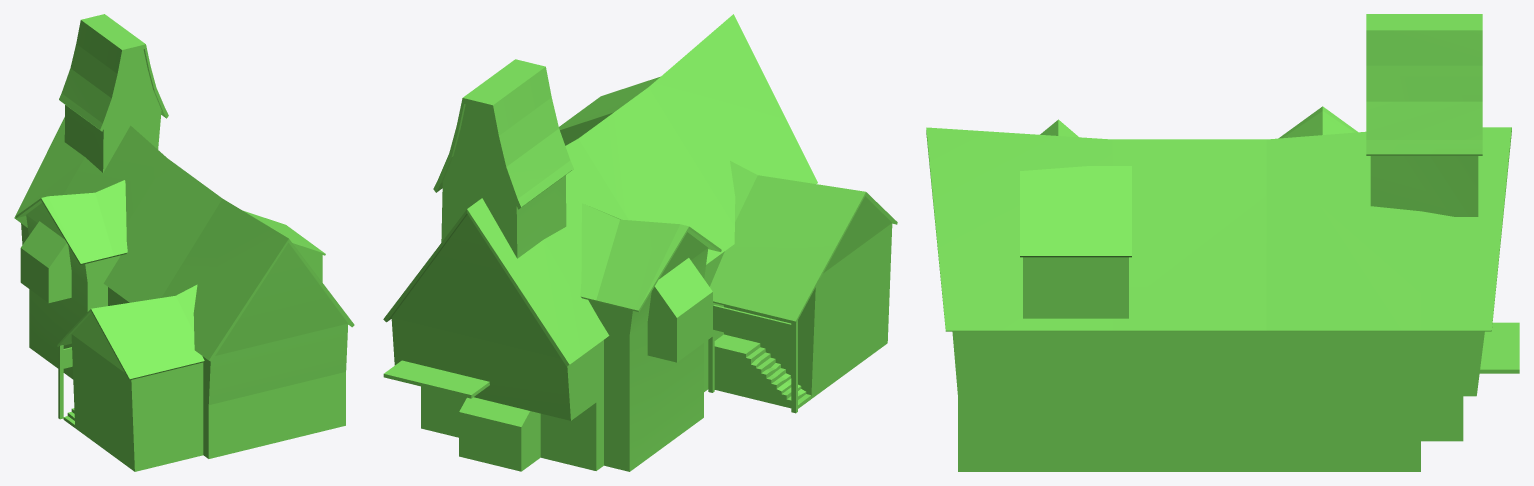
The model's file is Building1_Collision.FBX.
The picture shows the model from 3 angles, left to right: view 1: azimuth 30°, elevation 25°; view 2: azimuth 150°, elevation 25°; view 3: azimuth 270°, elevation 25°; orthographic projection. The views are drawn at different scales.
Visible parts, largest first — view 1: Building1_Collision; view 2: Building1_Collision; view 3: Building1_Collision.
Boxes of the visible parts, bbox=[...] form: Building1_Collision: bbox=[14, 14, 354, 471]; Building1_Collision: bbox=[383, 14, 897, 471]; Building1_Collision: bbox=[926, 14, 1519, 471].
Bounding box in the file's own units: 23.73 × 29.22 × 38.87.
